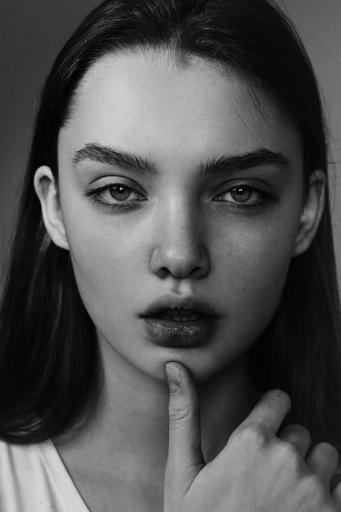left_eye: (210, 183, 276, 217)
left_lip_corner: (210, 308, 228, 330)
right_eye: (84, 180, 150, 214)
right_lip_corner: (135, 308, 150, 331)
